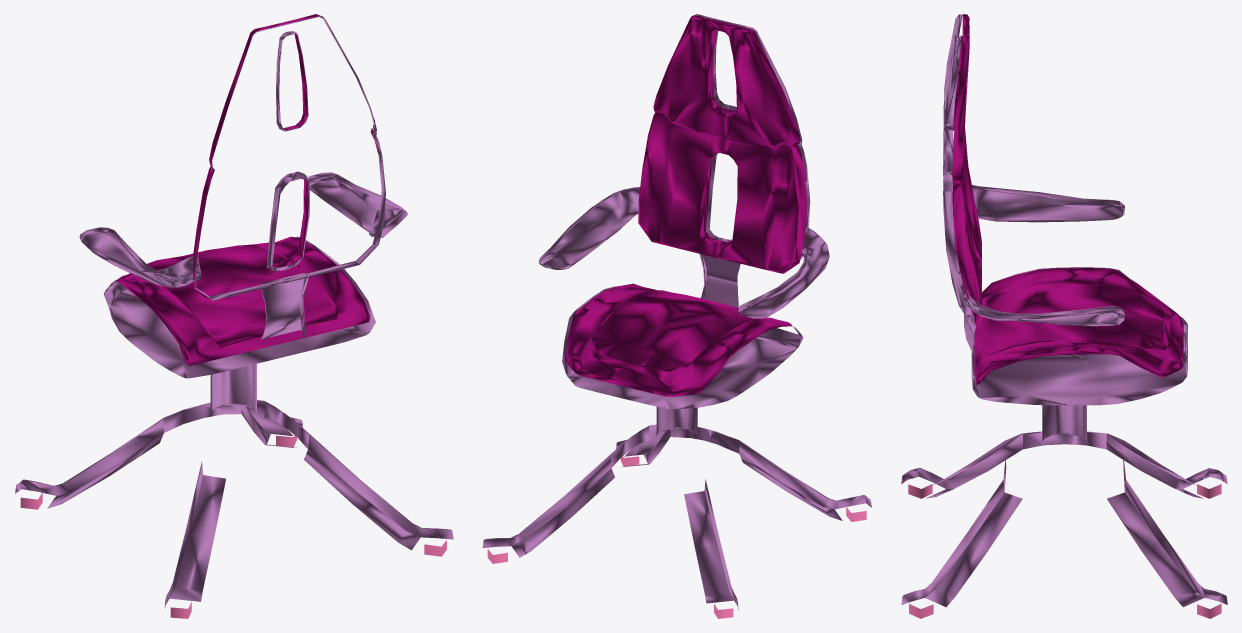
Rendered from chair_guest_1_a.glb.
The picture shows the model from 3 angles, left to right: view 1: azimuth 30°, elevation 25°; view 2: azimuth 150°, elevation 25°; view 3: azimuth 270°, elevation 25°; orthographic projection. The views are drawn at different scales.
Bounding box in the file's own units: 0.5694 × 1.02 × 0.5767.
